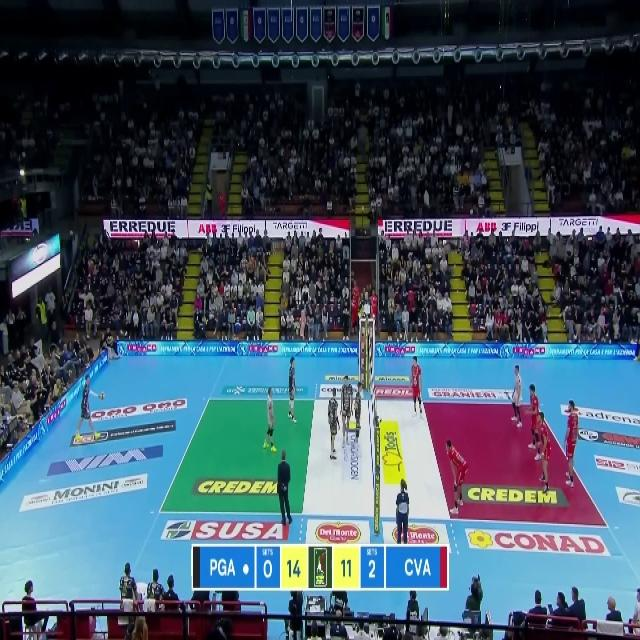volleyball court: (158, 394, 605, 530)
